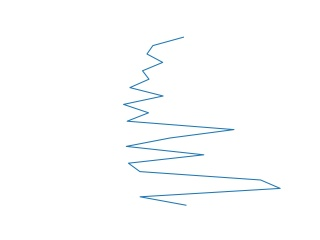crevasseRiverBedLagDeposit: (117, 34, 282, 210)
